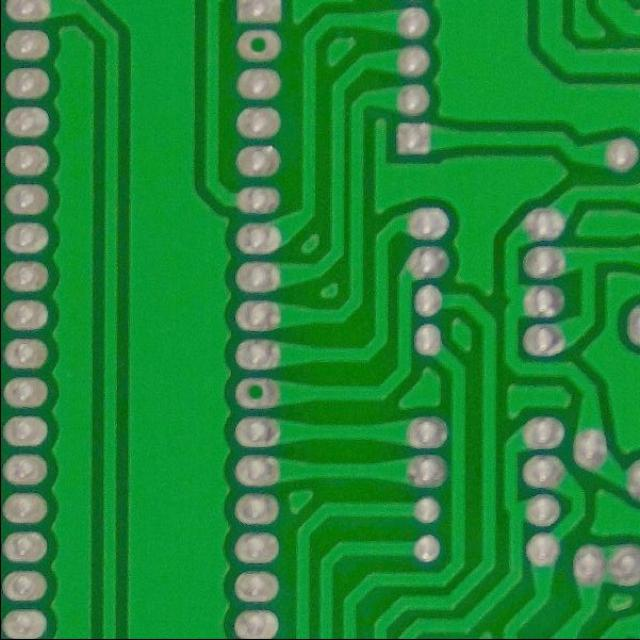missing_hole: (229, 369, 278, 418), (231, 27, 283, 69)
